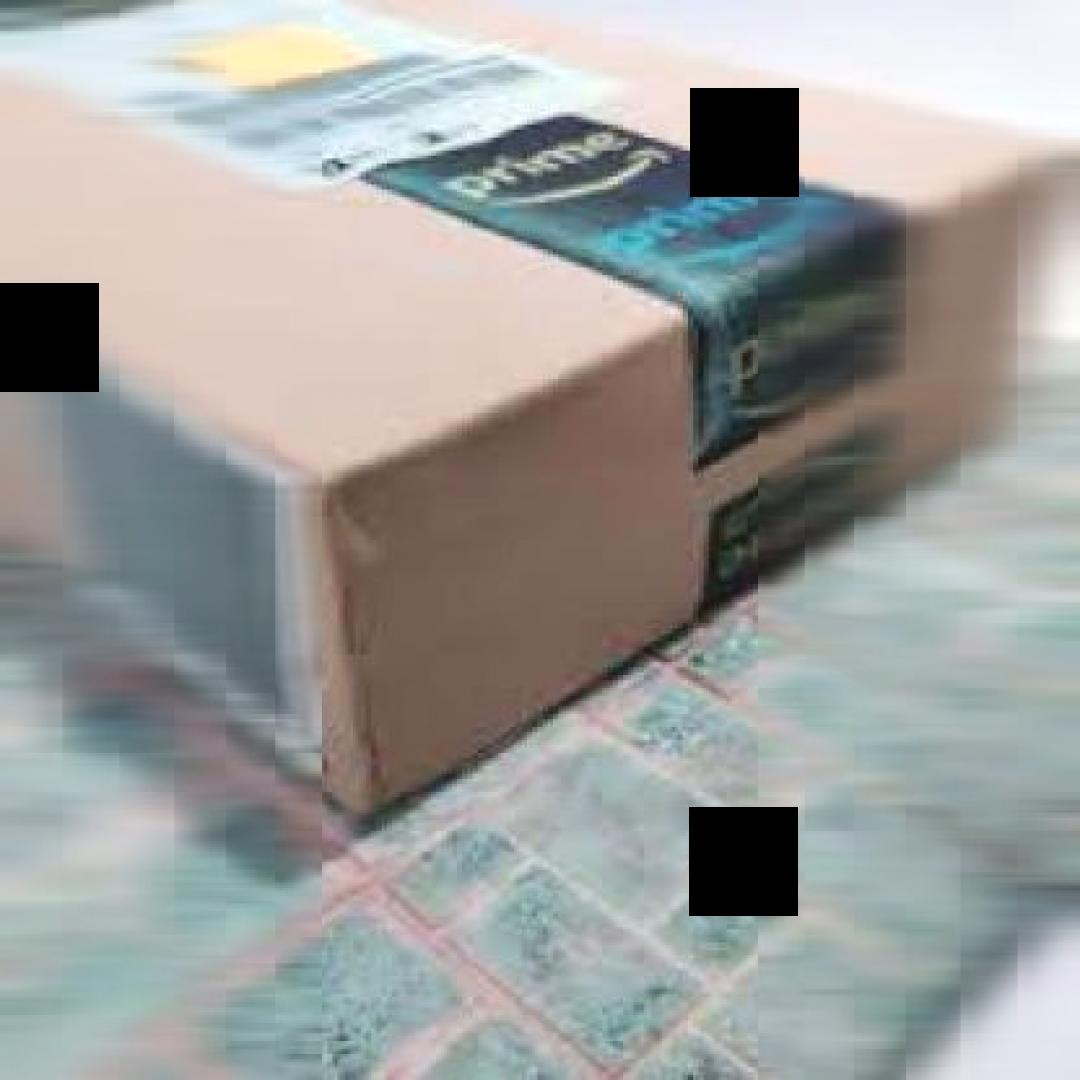package: (0, 0, 1075, 831)
